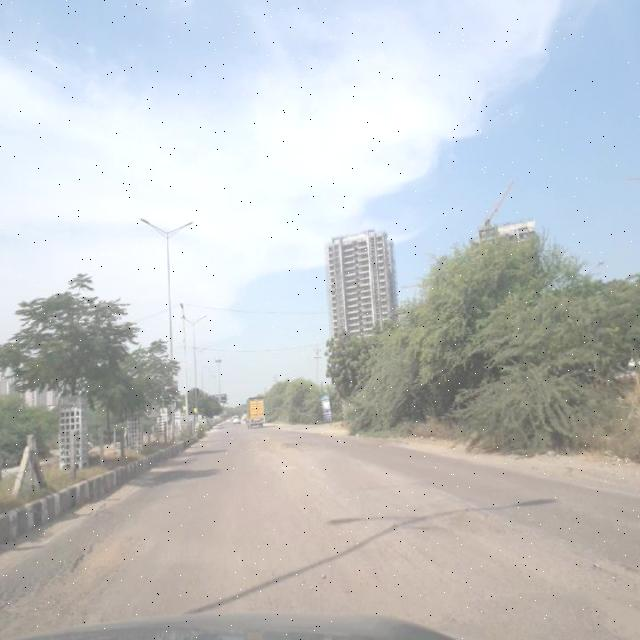D40: (6, 511, 166, 611), (418, 502, 524, 555), (258, 432, 346, 472), (586, 545, 640, 603)
